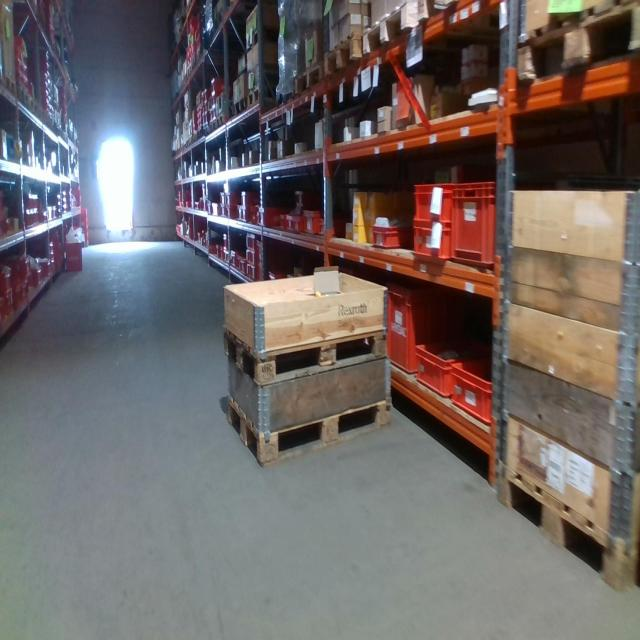pallet: (494, 453, 637, 593), (223, 306, 388, 390), (228, 393, 393, 467), (512, 1, 640, 89), (359, 0, 417, 55), (322, 31, 364, 81), (416, 1, 474, 32), (293, 56, 327, 101), (244, 24, 281, 56), (246, 82, 278, 110), (13, 84, 29, 115), (1, 73, 19, 100), (28, 91, 40, 120), (233, 96, 246, 119)
small_load_carrier: (389, 281, 462, 373), (454, 185, 503, 272), (417, 340, 489, 395), (451, 363, 495, 430), (413, 179, 459, 227), (415, 224, 455, 261), (373, 218, 413, 253), (302, 204, 344, 236), (254, 205, 280, 230), (65, 243, 82, 269), (245, 263, 275, 276), (241, 189, 262, 206), (247, 235, 268, 250), (247, 251, 271, 264), (225, 191, 240, 208), (242, 203, 254, 224), (223, 234, 238, 250), (293, 217, 304, 236), (210, 80, 226, 93), (279, 213, 288, 232), (286, 214, 294, 232), (237, 256, 246, 271), (236, 205, 244, 221), (213, 241, 220, 257), (220, 195, 228, 207), (223, 247, 230, 260), (231, 253, 237, 265), (211, 96, 217, 107), (220, 205, 226, 215), (218, 247, 223, 259), (226, 207, 234, 214), (212, 110, 217, 120)
